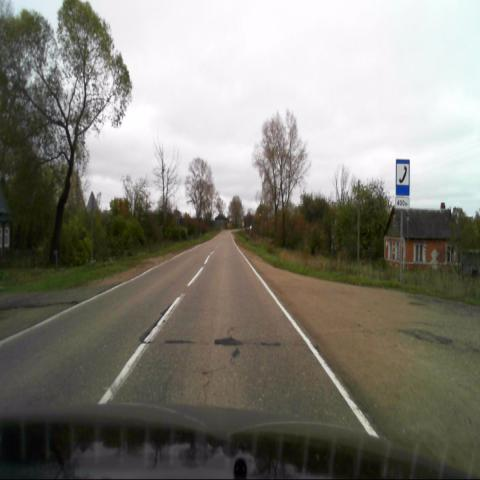7_6: (395, 158, 410, 196)
